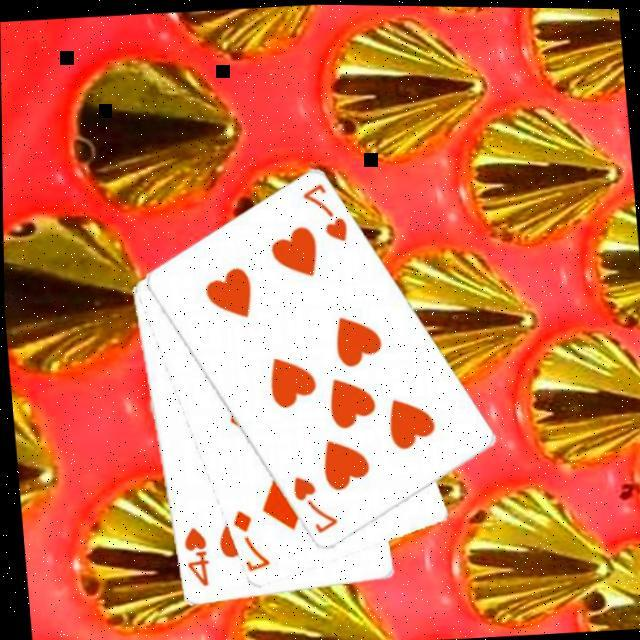4H: (178, 524, 212, 591)
7D: (227, 505, 273, 577)
7H: (298, 178, 352, 248), (287, 471, 341, 540)
